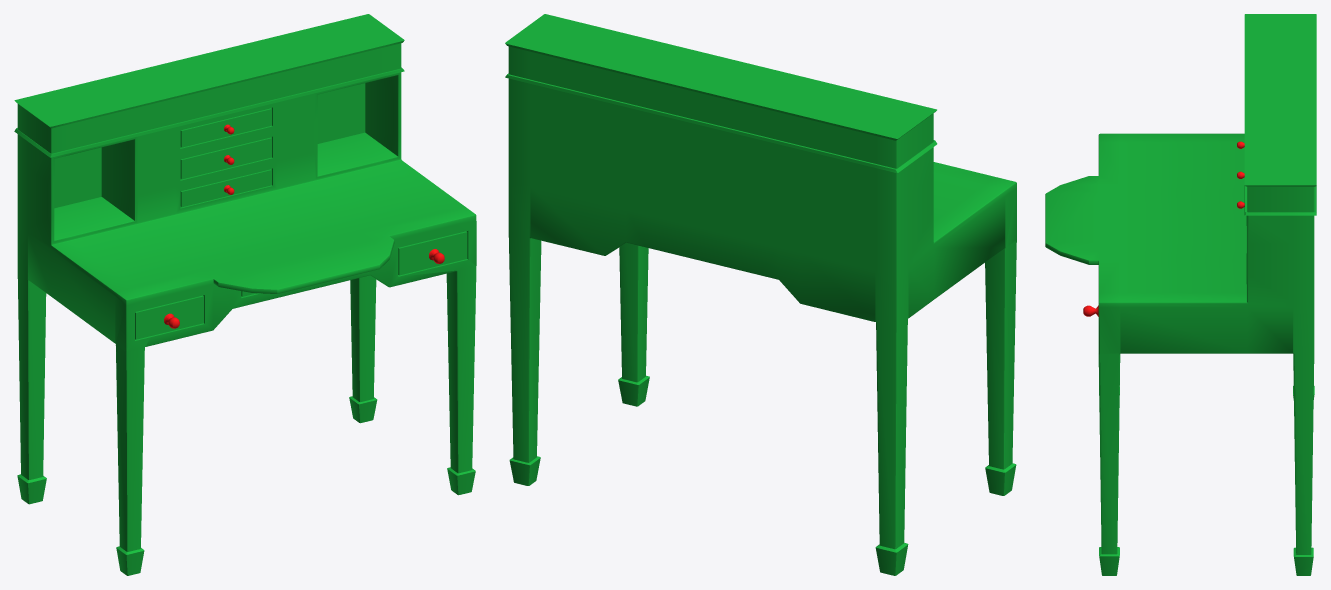
Rendered from desk_low.fbx.
The picture shows the model from 3 angles, left to right: view 1: azimuth 30°, elevation 25°; view 2: azimuth 150°, elevation 25°; view 3: azimuth 270°, elevation 25°; orthographic projection. The views are drawn at different scales.
Parts seen in each view (by area): view 1: desk_low; view 2: desk_low; view 3: desk_low.
Part boxes in pixels (x1=…): desk_low: x1=14, y1=14, x2=476, y2=575; desk_low: x1=505, y1=14, x2=1016, y2=575; desk_low: x1=1045, y1=14, x2=1316, y2=575.
Size of the model in its own units: 36.26 by 38.8 by 24.28.
